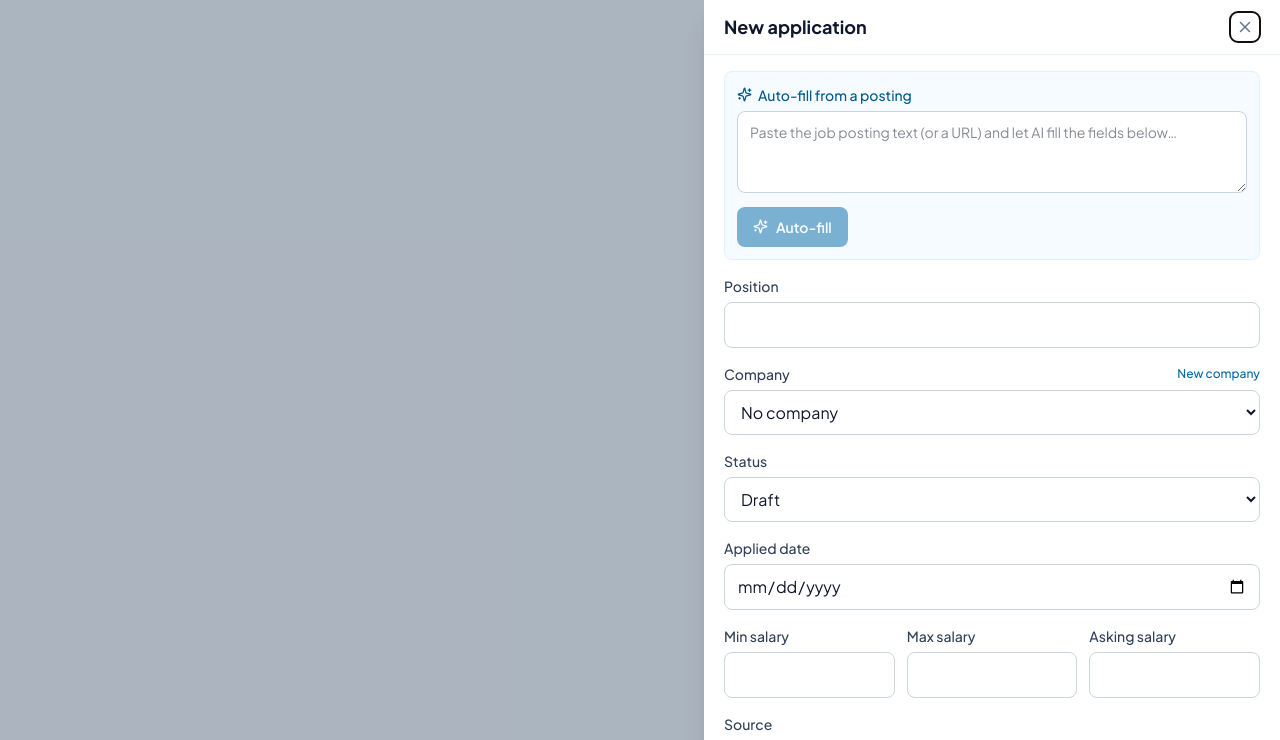
Test: shows the backend error inline when a posting cannot be parsed
Type "https://ph.indeed.com/?vjk=abc" into the text box labelled "job posting".
click(992, 152); type("https://ph.indeed.com/?vjk=abc")  # box [737,110,1247,192]
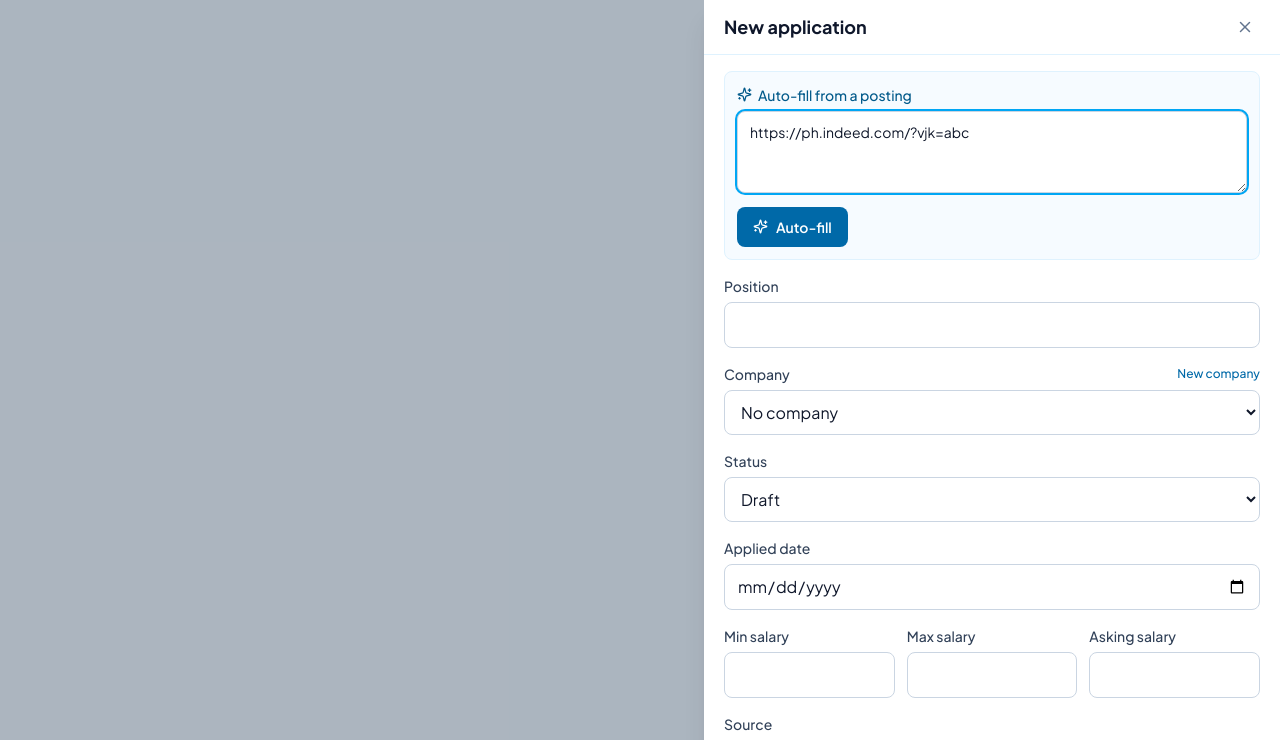
Click the button "Auto-fill".
click(792, 226)  # box [737,206,848,246]
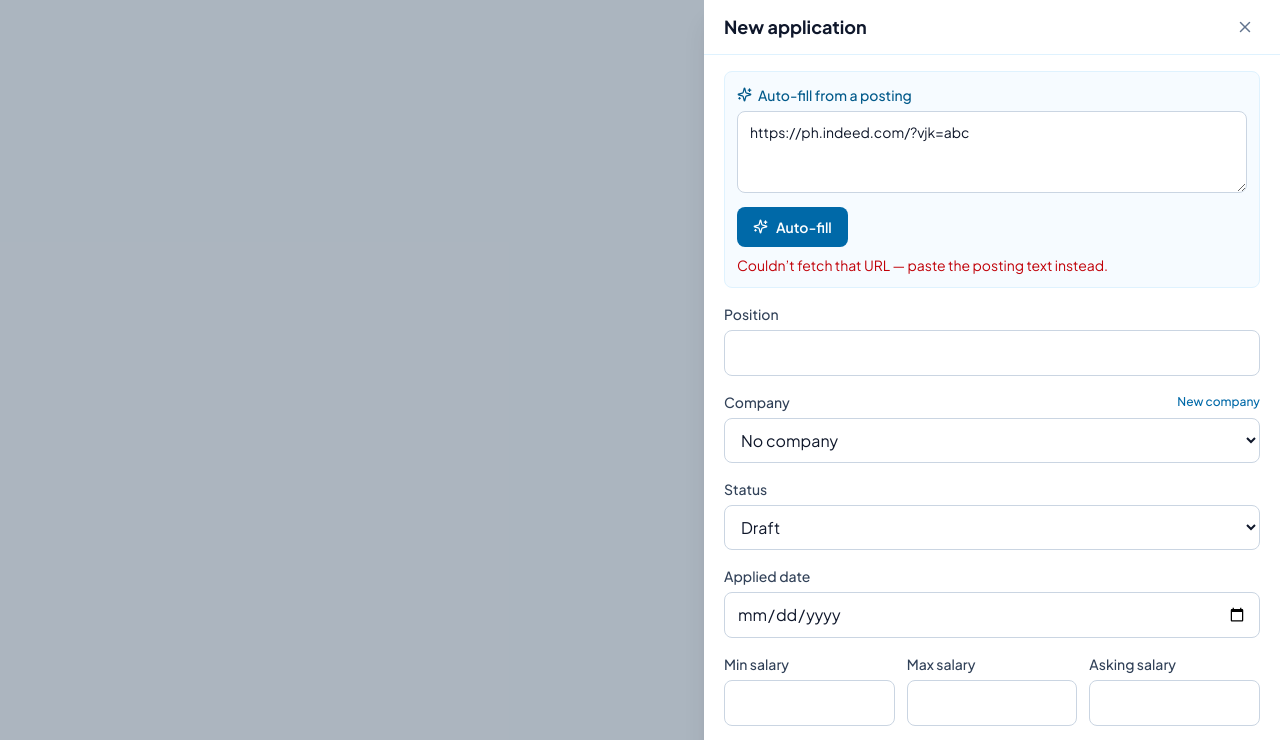
expect the text "Couldn’t fetch that URL — paste the posting text instead." is shown: met, box [737,256,1108,274]
